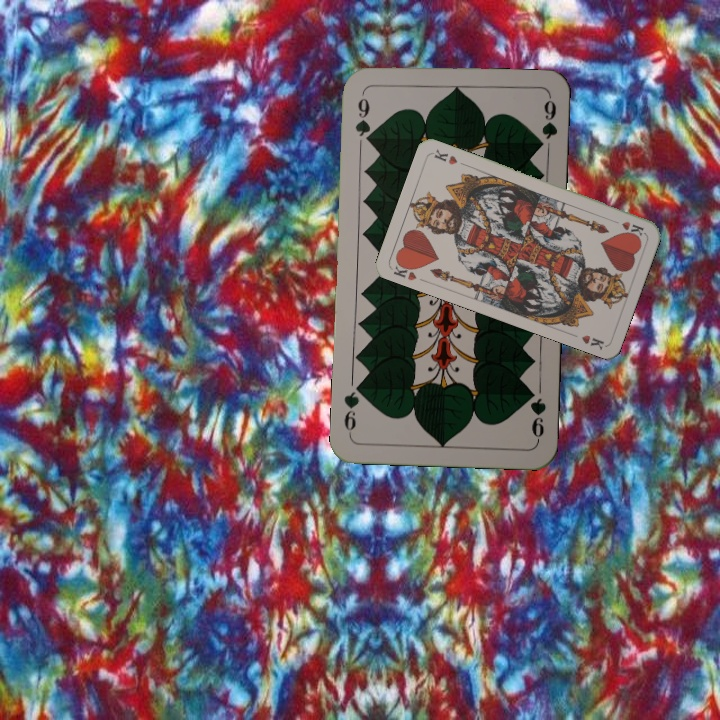G9: (524, 384, 549, 444), (351, 94, 374, 148)
HK: (607, 216, 646, 239), (389, 257, 419, 283)
